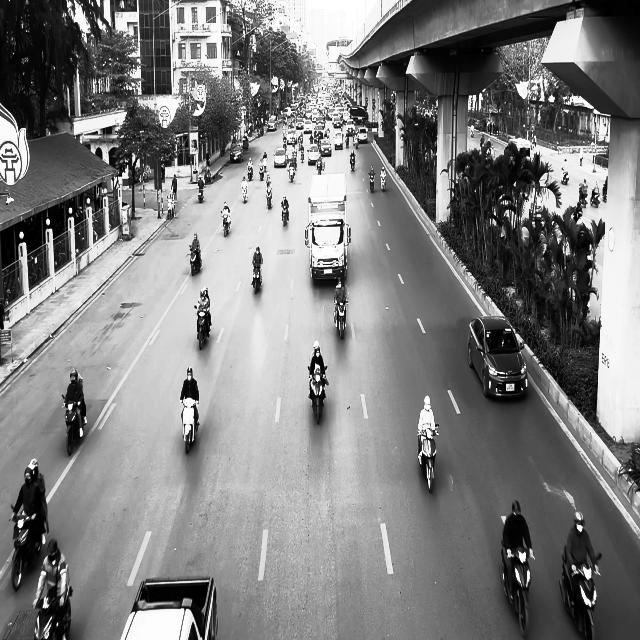car: (120, 576, 218, 640), (467, 316, 528, 400), (230, 144, 243, 162), (274, 148, 286, 167)
motorbike: (559, 546, 601, 639), (498, 538, 534, 638), (9, 504, 47, 591), (33, 586, 73, 640), (417, 424, 439, 493), (61, 394, 85, 456), (308, 364, 328, 424), (180, 397, 199, 454), (194, 305, 211, 350), (333, 297, 348, 339), (189, 246, 201, 276), (252, 262, 262, 294), (220, 210, 231, 237), (578, 188, 588, 208), (590, 188, 600, 207), (281, 204, 289, 226), (241, 181, 248, 203), (560, 167, 569, 184), (368, 171, 375, 192), (350, 151, 356, 171), (198, 183, 204, 203), (380, 174, 386, 192)
truck: (304, 172, 351, 284)
